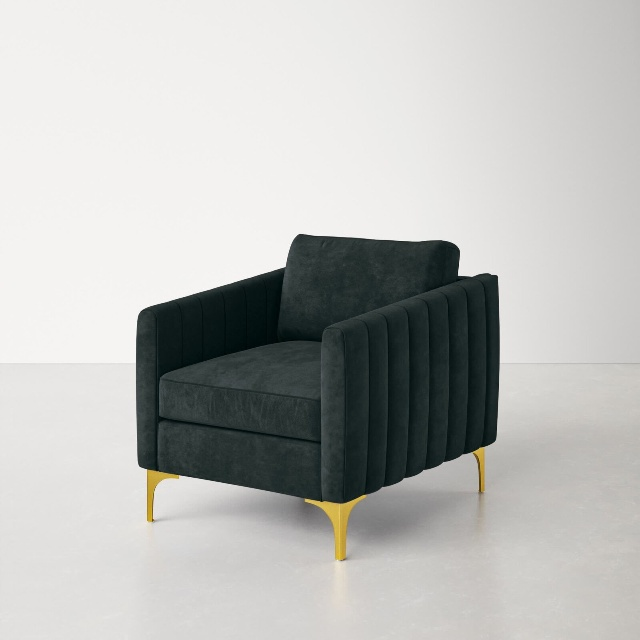obstacle: (137, 235, 498, 558)
